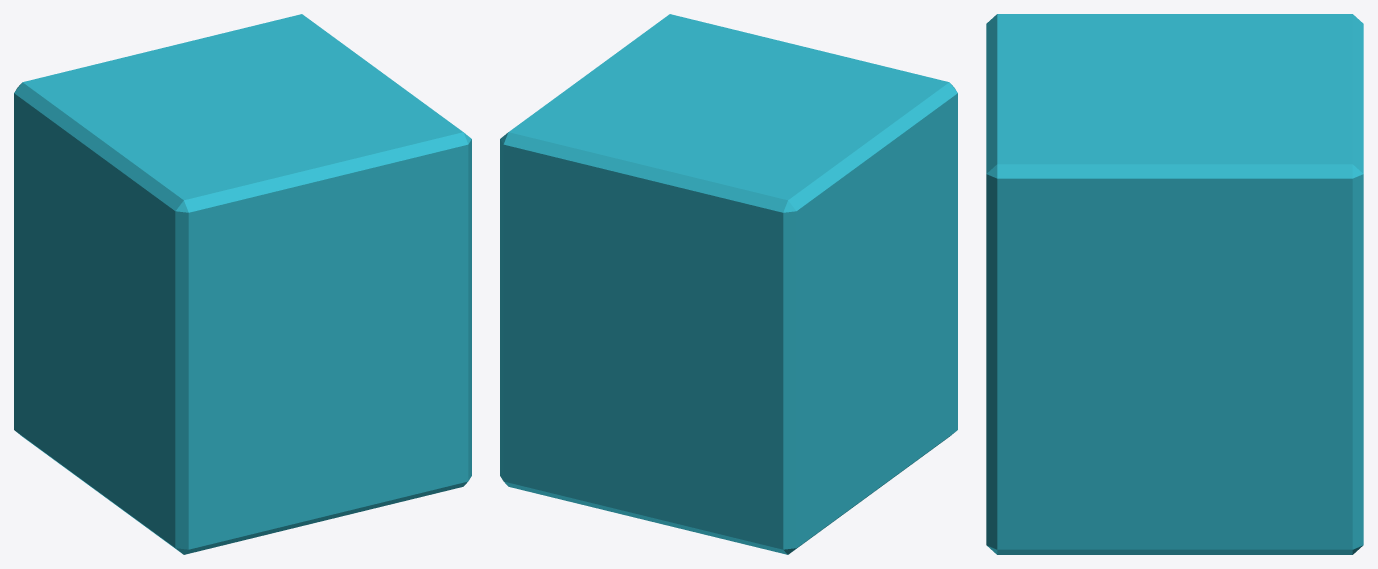
The model's file is ice_block.glb.
3 views of the same model, side by side, from view 1: azimuth 30°, elevation 25°; view 2: azimuth 150°, elevation 25°; view 3: azimuth 270°, elevation 25° (orthographic). The views are drawn at different scales.
Parts seen in each view (by area): view 1: ice_block; view 2: ice_block; view 3: ice_block.
Part boxes in pixels (bbox=[...]): ice_block: bbox=[14, 14, 471, 554]; ice_block: bbox=[500, 14, 957, 554]; ice_block: bbox=[986, 14, 1363, 554].
Size of the model in its own units: 0.28 by 0.32 by 0.28.
